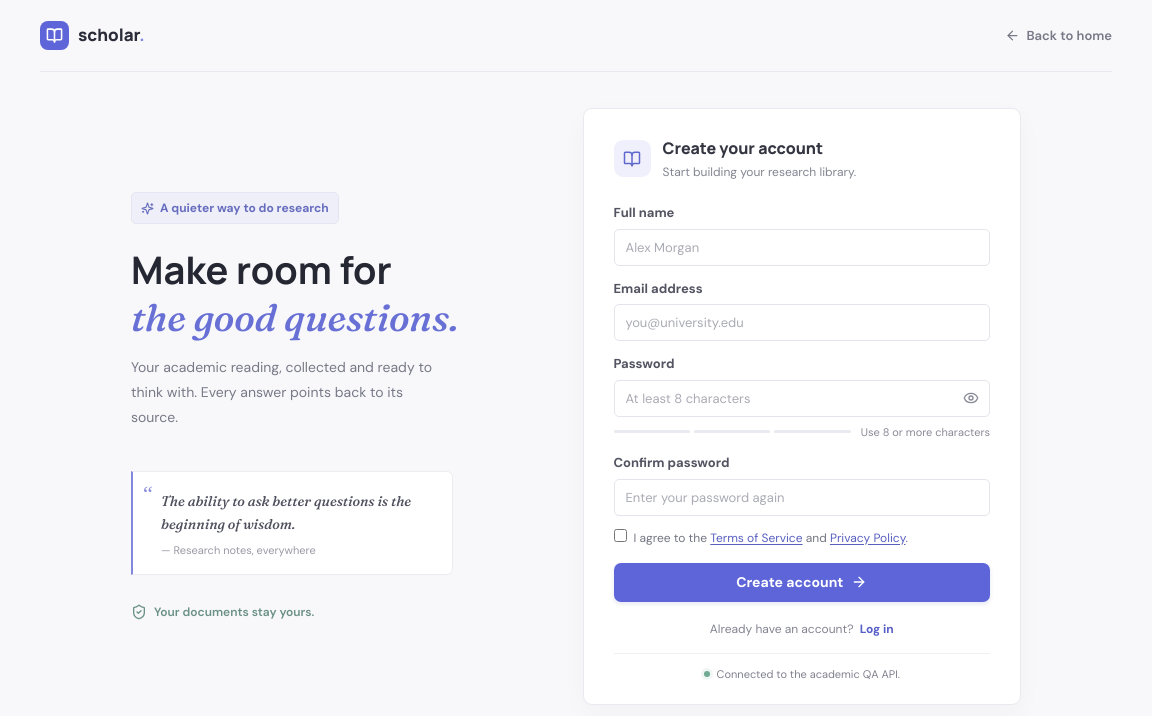
Test case: AuthPage › shows error when passwords do not match on register
Type "Test User" into the field with placeholder "Alex Morgan". click: point(802, 247)
box: x1=614 y1=228 x2=990 y2=266
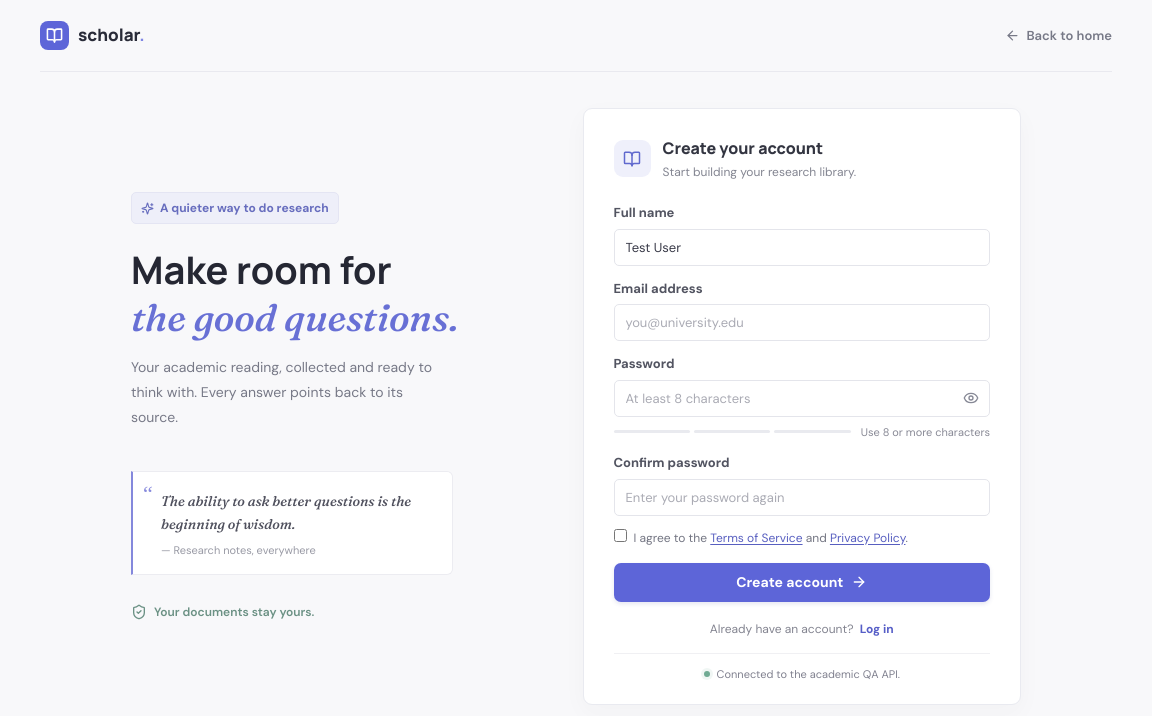
Type "test@example.com" into the field with placeholder "you@university.edu". click: point(802, 322)
box: x1=614 y1=304 x2=990 y2=341
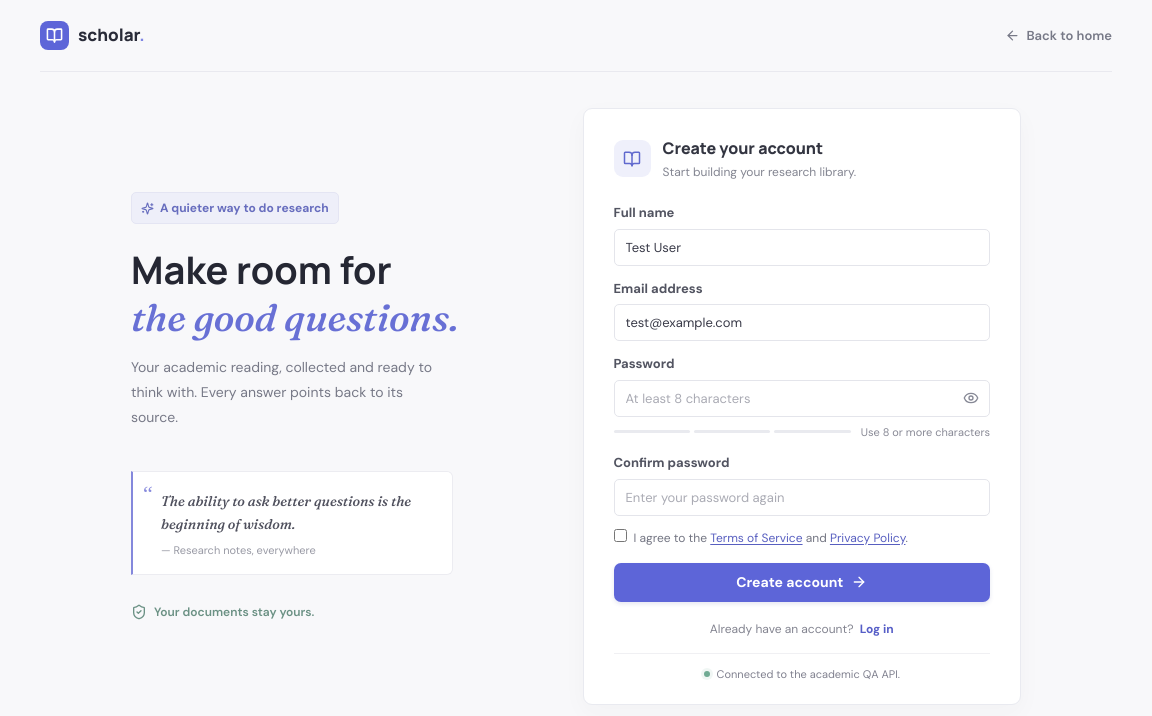
Type "password123" into the password field labelled "Password". click: point(802, 398)
box: x1=614 y1=380 x2=990 y2=416
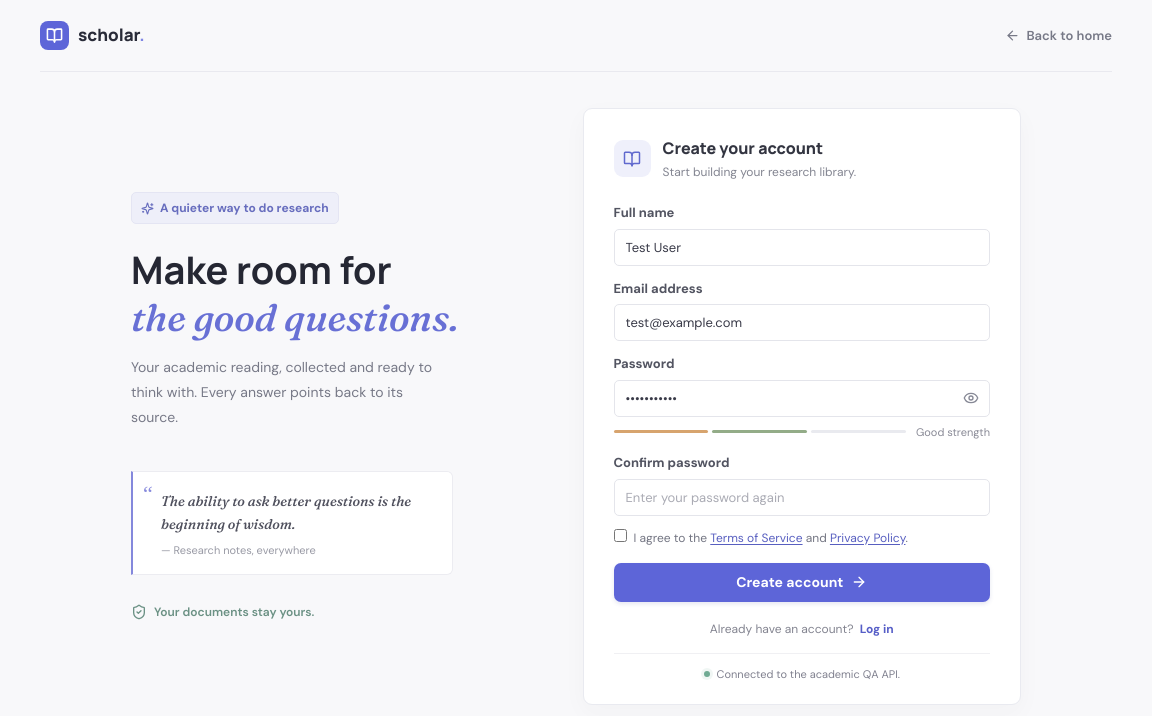
Type "different" into the password field labelled "Confirm password". click: point(802, 497)
box: x1=614 y1=478 x2=990 y2=516
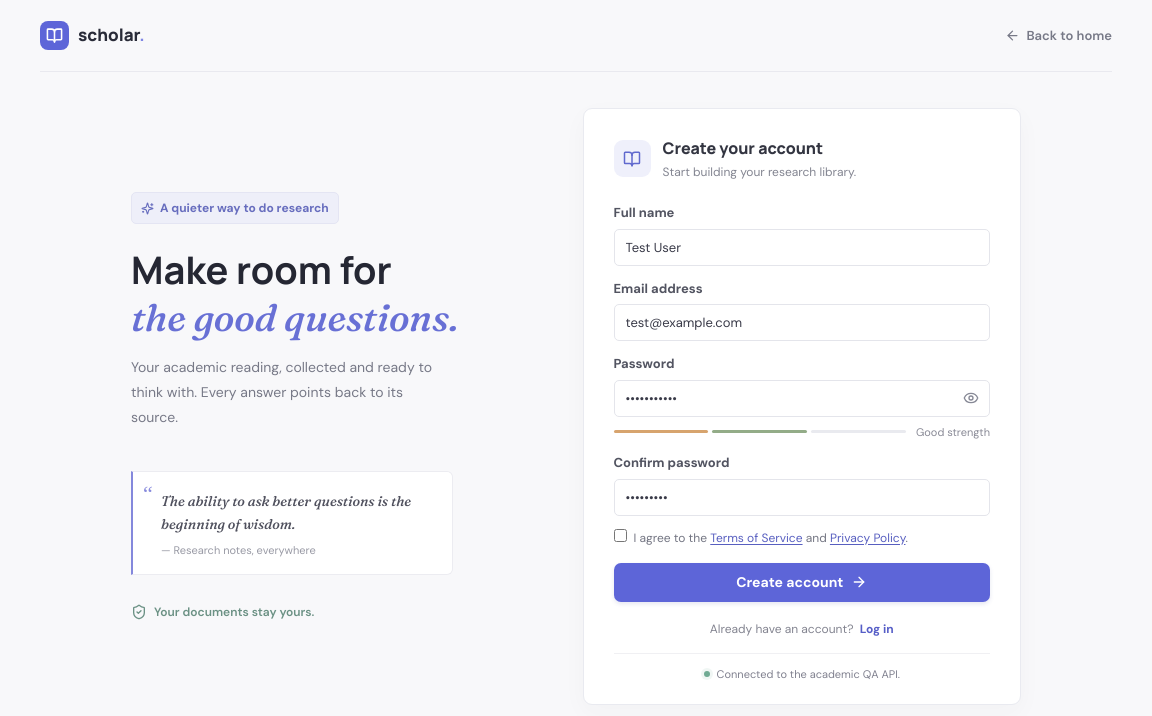
Submit the form with placeholder "university.edu", box x1=614 y1=203 x2=990 y2=602
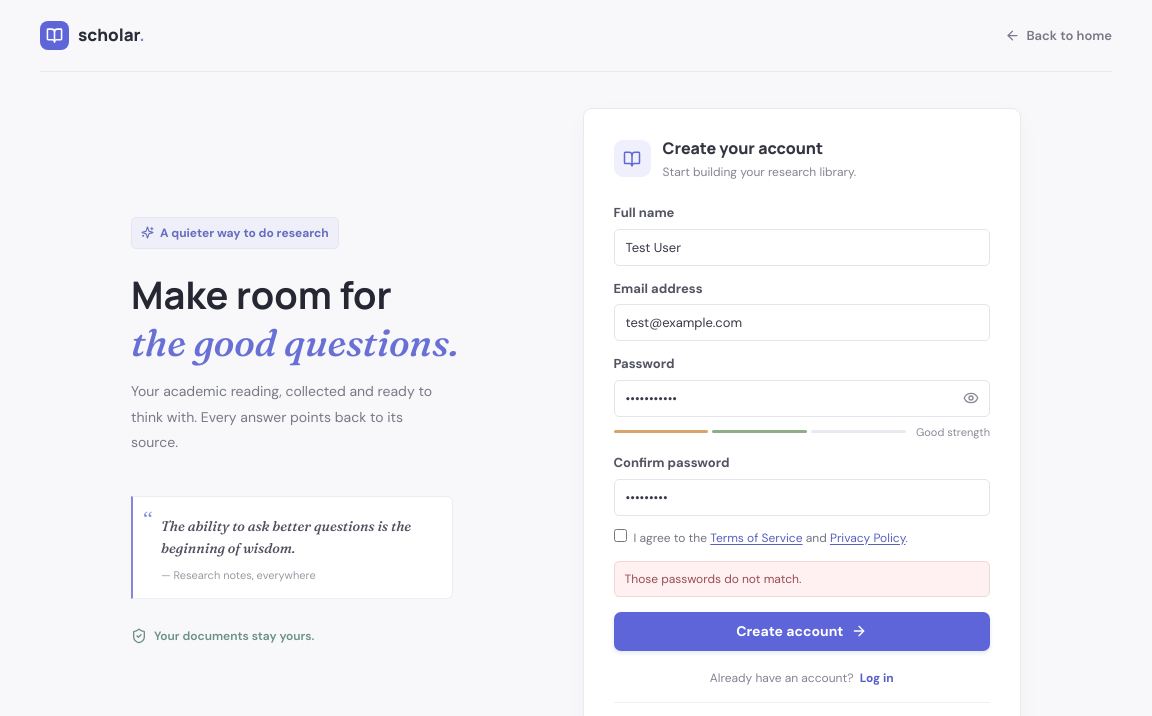
Expected: the text "Those passwords do not match." is shown, x1=614 y1=561 x2=990 y2=597
